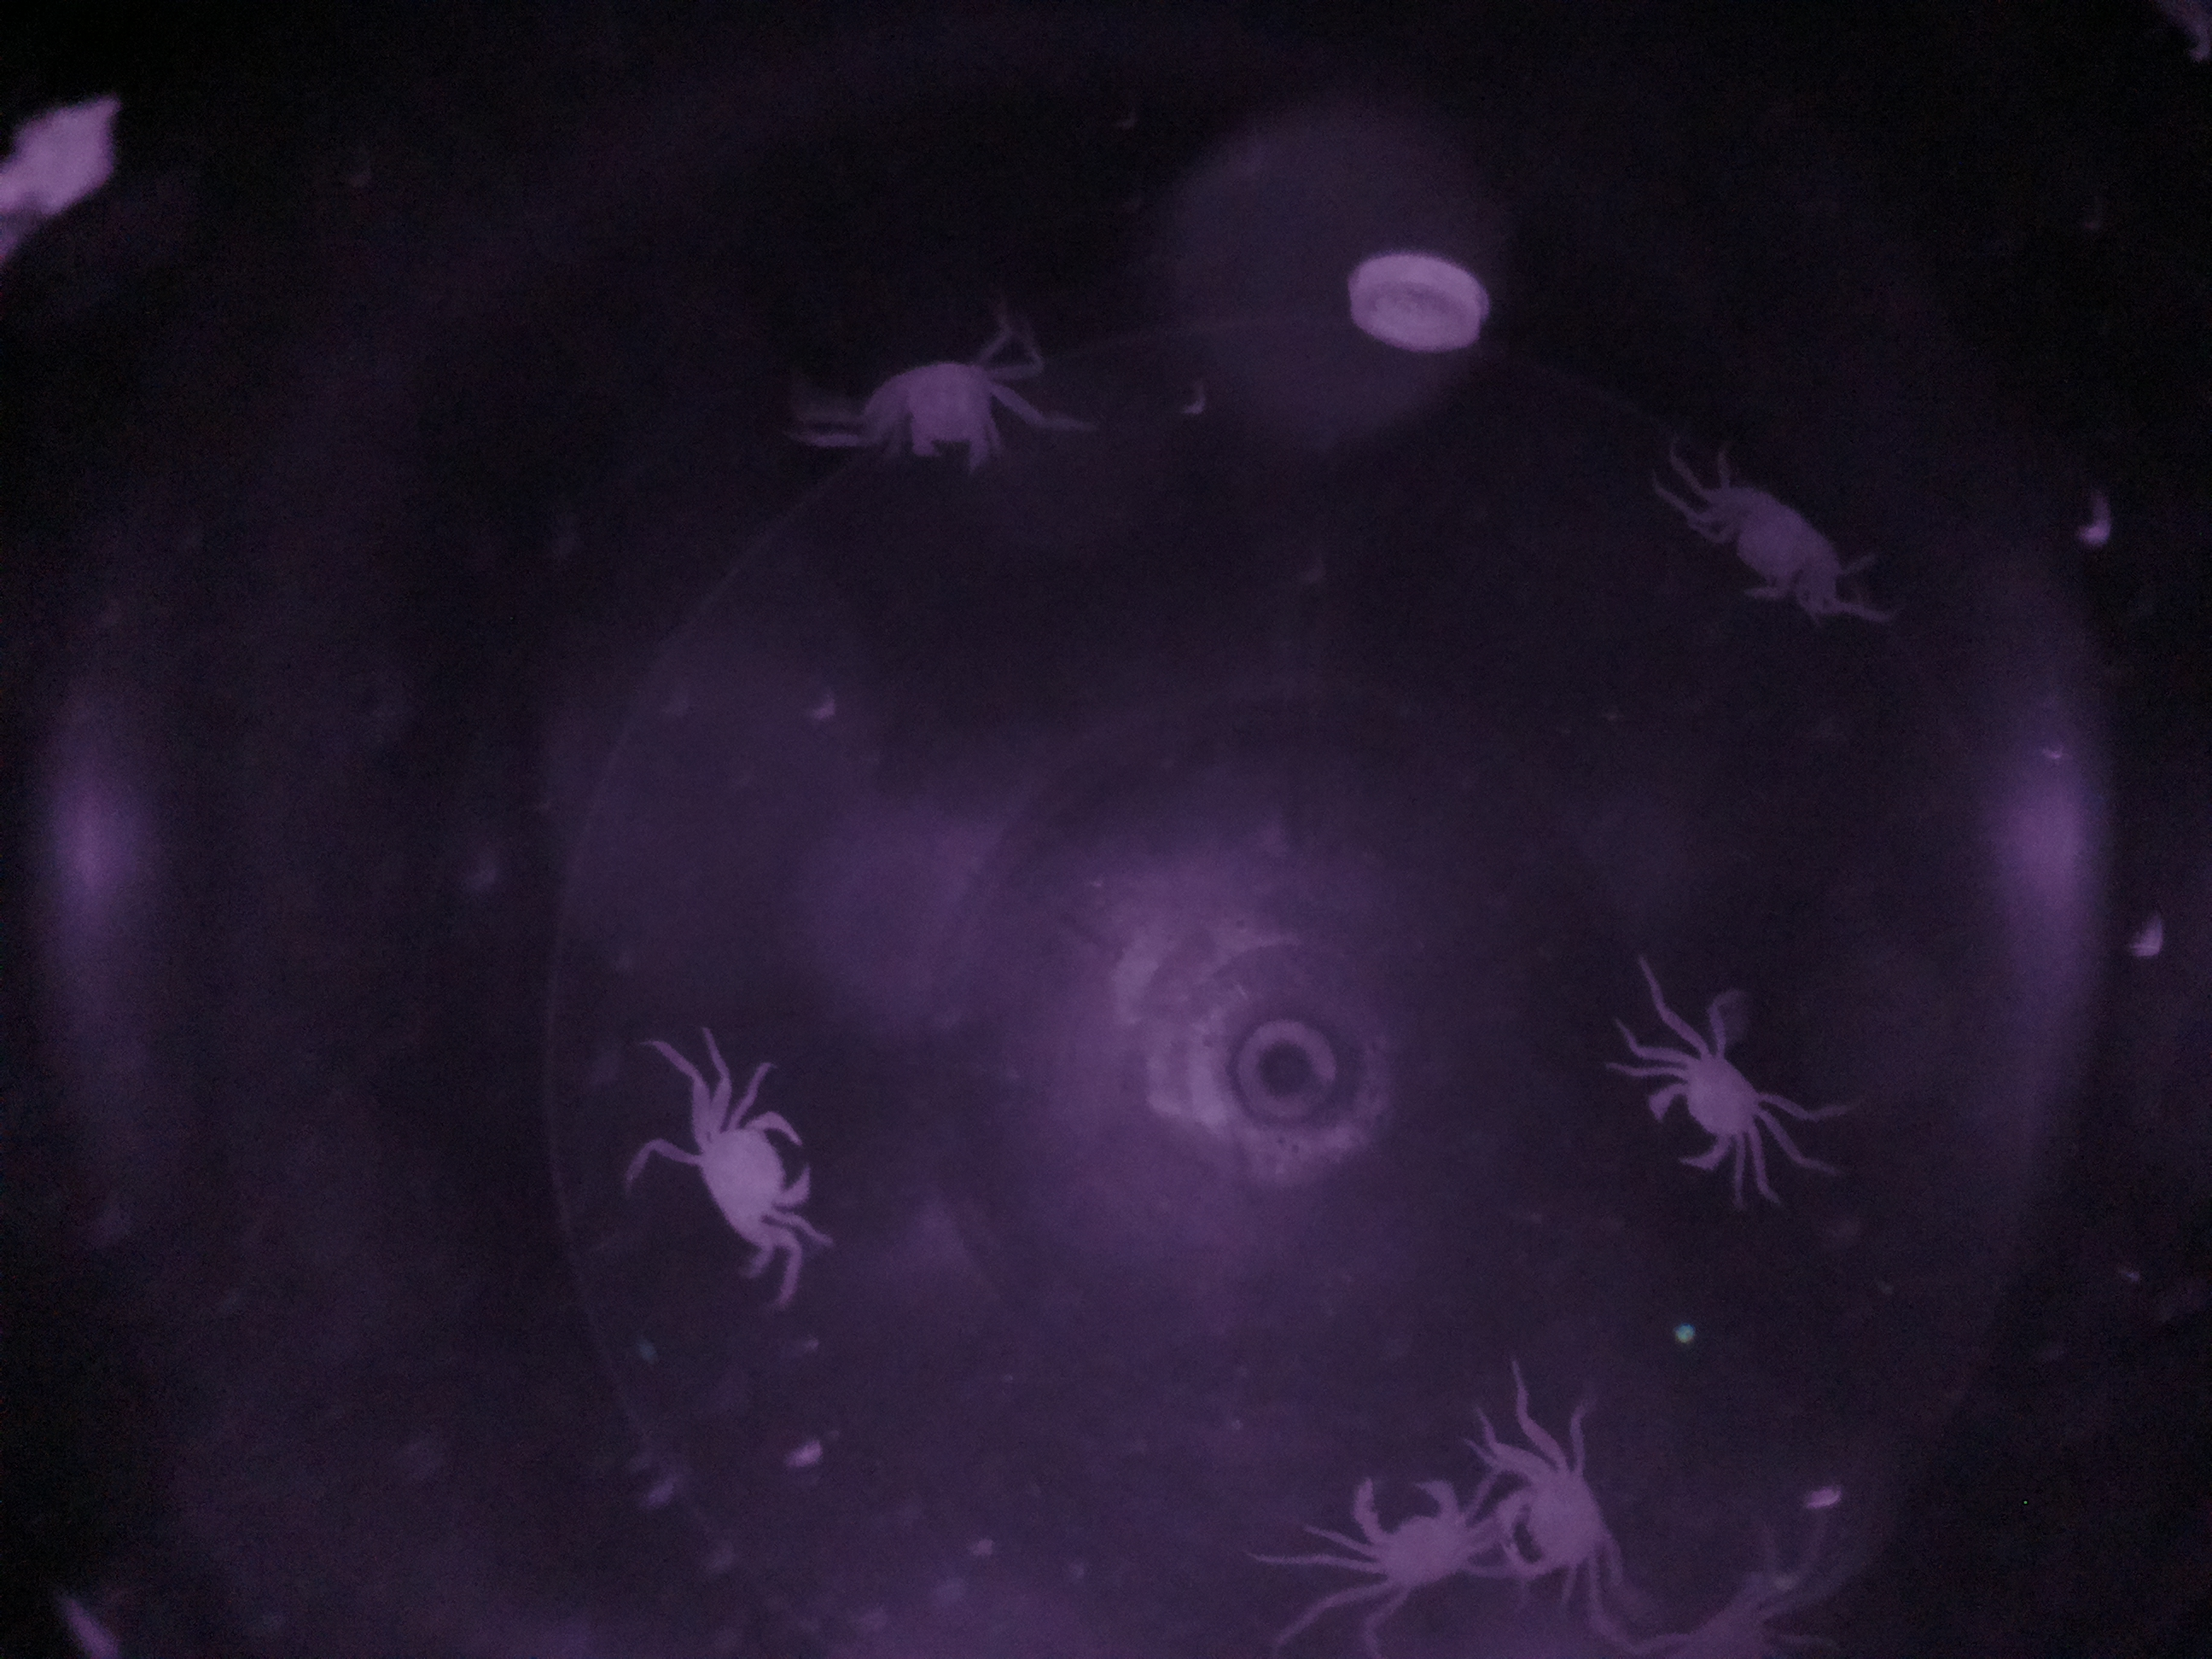Crab: (634, 1070, 827, 1279), (1700, 457, 1860, 660), (1491, 1420, 1653, 1614), (1313, 1445, 1489, 1621), (1639, 1028, 1787, 1190)
